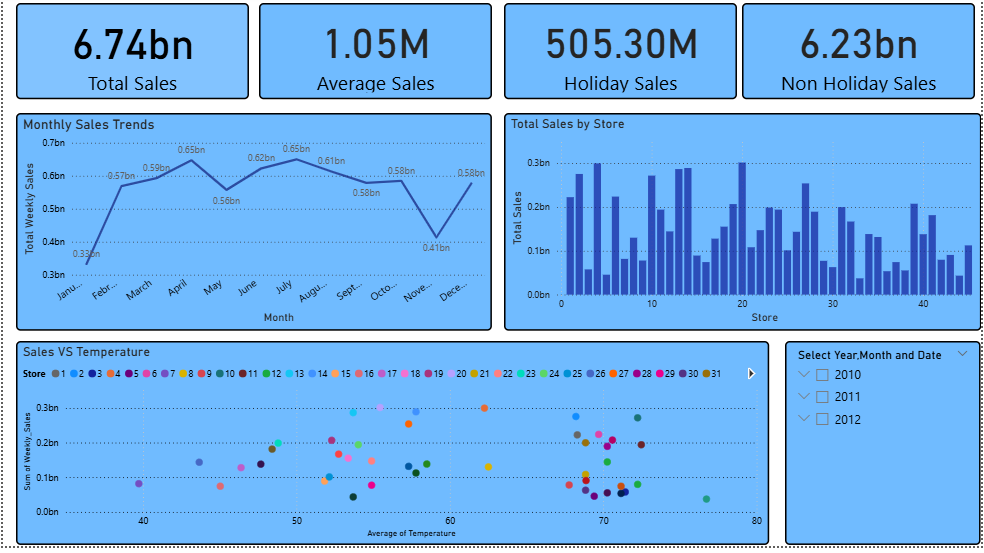

What the dashboard file says about the page in this screenshot:
{"tool":"powerbi","page":{"name":"Page 1","canvas":[1280,720],"ordinal":0},"visuals":[{"type":"card","fields":{"Values":["Walmart.Average Sales"]},"box":[334.5,9.7,305.5,125.8],"z":0},{"type":"card","fields":{"Values":["Walmart.Holiday Sales"]},"box":[655.2,9.7,305.5,125.8],"z":1000},{"type":"card","fields":{"Values":["Walmart.Non Holiday Sales"]},"box":[967.6,9.7,305.5,125.8],"z":2000},{"type":"card","fields":{"Values":["Walmart.Total Sales"]},"box":[16.6,9.7,305.5,125.8],"z":3000},{"type":"lineChart","title":"Monthly Sales Trends","fields":{"Category":["Walmart.Date.Variation.Date Hierarchy.Month"],"Y":["Sum(Walmart.Weekly_Sales)"]},"box":[16.6,153.4,623.4,284.8],"z":4000},{"type":"clusteredColumnChart","fields":{"Category":["Walmart.Store"],"Y":["Walmart.Total Sales"]},"box":[655.2,153.4,624.8,284.8],"z":5000},{"type":"scatterChart","title":"Sales VS Temperature","fields":{"X":["Avg(Walmart.Temperature)"],"Y":["Sum(Walmart.Weekly_Sales)"],"Series":["Walmart.Store"]},"box":[16.6,452,985.6,266.8],"z":6000},{"type":"slicer","fields":{"Values":["Walmart.Date.Variation.Date Hierarchy.Year","Walmart.Date.Variation.Date Hierarchy.Month","Walmart.Date.Variation.Date Hierarchy.Day"]},"box":[1024.3,452,255.7,266.8],"z":7000}]}

Visuals, with their boxes in screenshot pixels (x1, y1, x2, y2), scaled from the page's 1280x720 canvas onto the 984x553 screenshot:
card - Walmart.Average Sales: region(257, 7, 492, 104)
card - Walmart.Holiday Sales: region(504, 7, 739, 104)
card - Walmart.Non Holiday Sales: region(744, 7, 979, 104)
card - Walmart.Total Sales: region(13, 7, 248, 104)
"Monthly Sales Trends" lineChart: region(13, 118, 492, 337)
clusteredColumnChart - Walmart.Store x Walmart.Total Sales: region(504, 118, 983, 337)
"Sales VS Temperature" scatterChart: region(13, 347, 770, 552)
slicer - Walmart.Date.Variation.Date Hierarchy.Year x Walmart.Date.Variation.Date Hierarchy.Month: region(787, 347, 983, 552)
